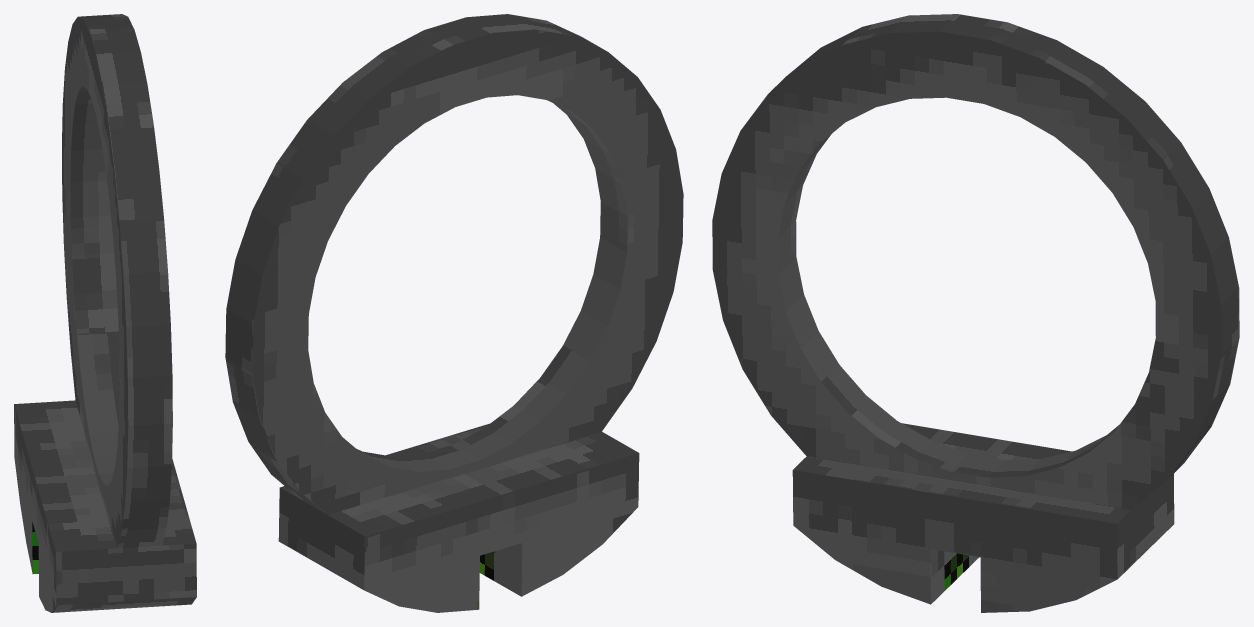
File: portal.glb
3 views of the same model, side by side, from view 1: azimuth 30°, elevation 25°; view 2: azimuth 150°, elevation 25°; view 3: azimuth 270°, elevation 25° (orthographic). The views are drawn at different scales.
Parts seen in each view (by area): view 1: portal frame-col; view 2: portal frame-col; view 3: portal frame-col.
Part boxes in pixels (box(x1,y1,x2,y2)): portal frame-col: box(14, 14, 196, 612); portal frame-col: box(225, 14, 683, 612); portal frame-col: box(712, 14, 1239, 612).
Bounding box in the file's own units: 5.95 × 13.3 × 11.4.
Materials: 1 (1 with a texture image).
